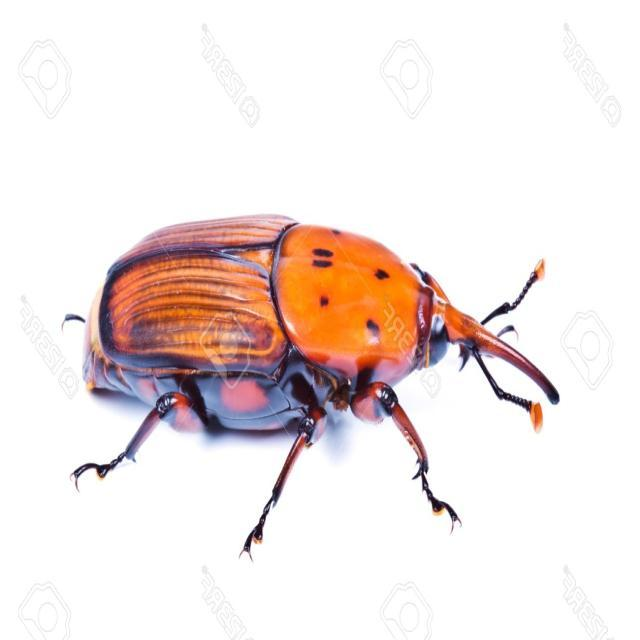Red-palm-weevil: (62, 207, 510, 489)
